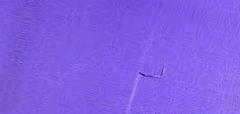snag: (135, 65, 170, 83)
